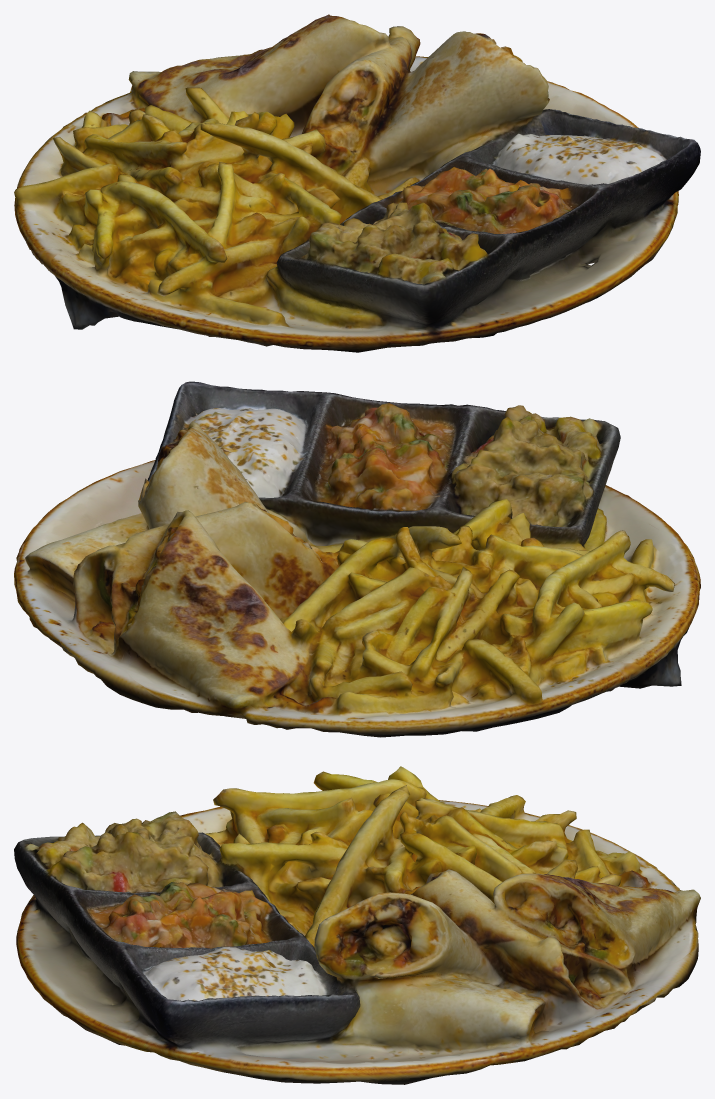
Rendered from beefFahita_1752057967754.glb.
3 views of the same model, one above another, from view 1: azimuth 30°, elevation 25°; view 2: azimuth 150°, elevation 25°; view 3: azimuth 270°, elevation 25° (orthographic). The views are drawn at different scales.
Parts seen in each view (by area): view 1: 3DModel_Custom; view 2: 3DModel_Custom; view 3: 3DModel_Custom.
Part boxes in pixels (x1,y1,x2,y2): 3DModel_Custom: [14, 14, 700, 352]; 3DModel_Custom: [14, 381, 700, 737]; 3DModel_Custom: [14, 766, 700, 1084].
Size of the model in its own units: 0.2802 by 0.0732 by 0.2791.
1 material, 1 textured.
